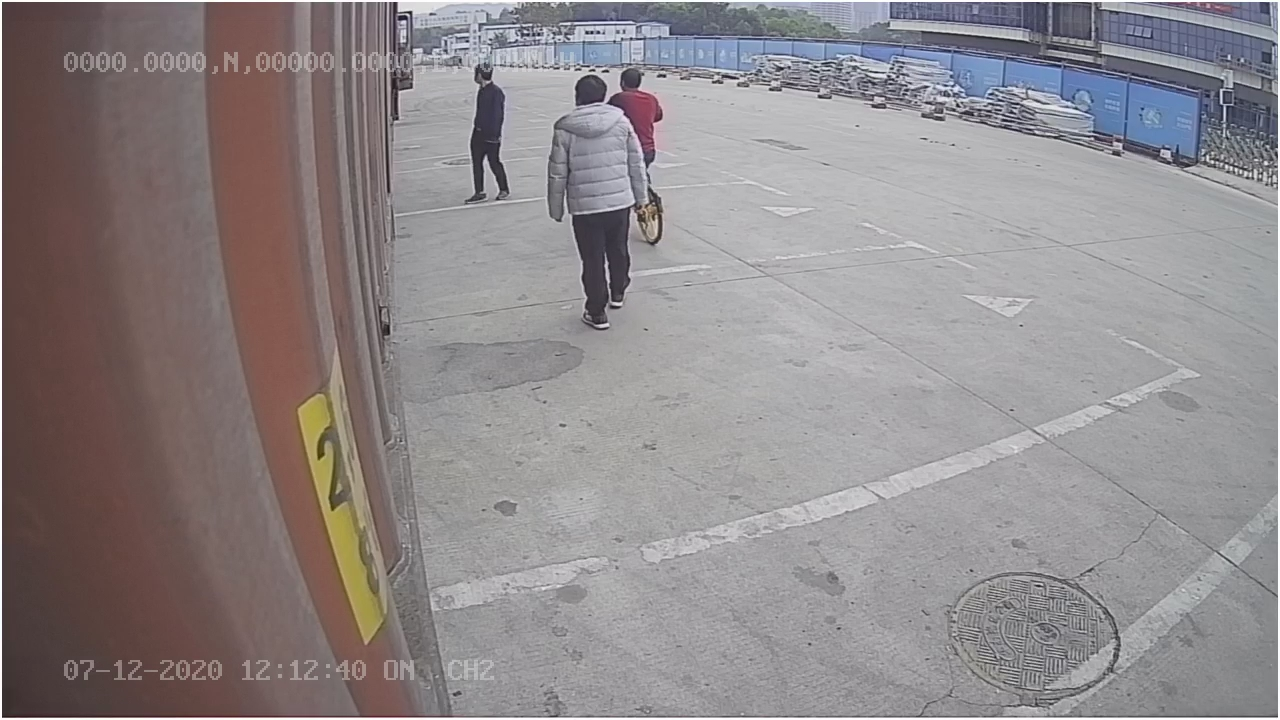person: (546, 73, 654, 331)
